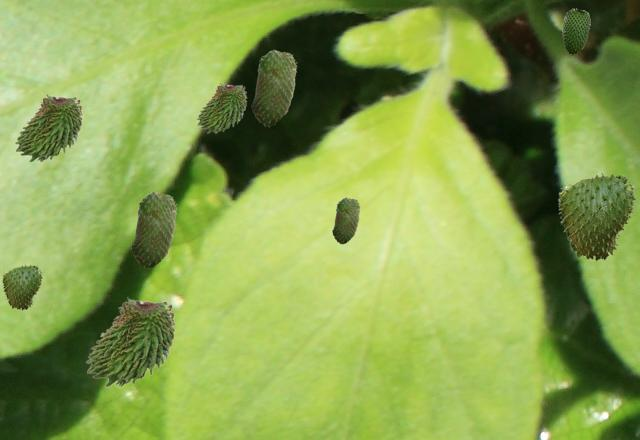guyabano: (85, 296, 175, 386), (558, 172, 636, 262), (14, 93, 82, 161), (251, 49, 296, 126), (131, 191, 176, 268), (196, 82, 246, 132), (2, 264, 42, 310), (562, 8, 589, 54), (332, 197, 359, 243)
